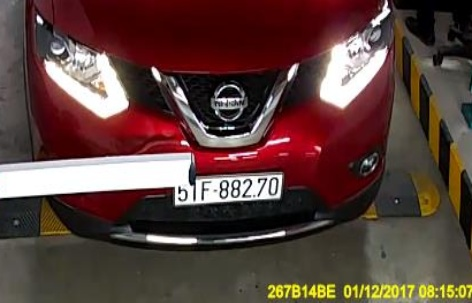plate: (175, 172, 281, 203)
